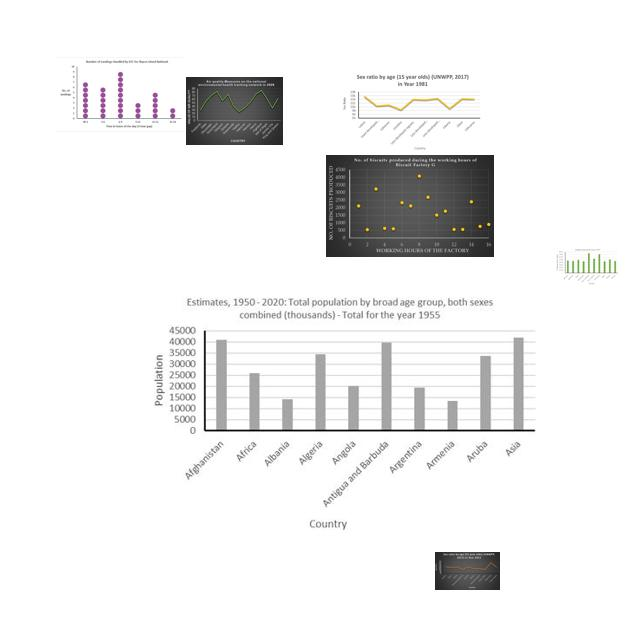Graph: (140, 290, 539, 530), (326, 155, 494, 257), (342, 71, 482, 151), (56, 57, 184, 132), (186, 77, 283, 145), (435, 552, 500, 590), (556, 248, 619, 285)
